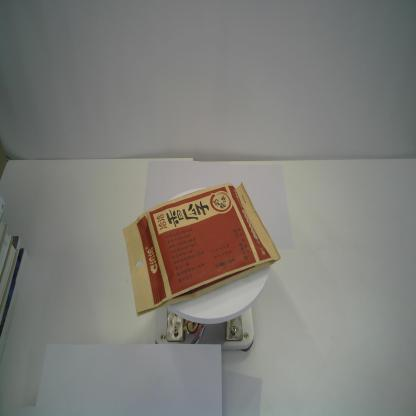Dried Food: (121, 179, 281, 319)
